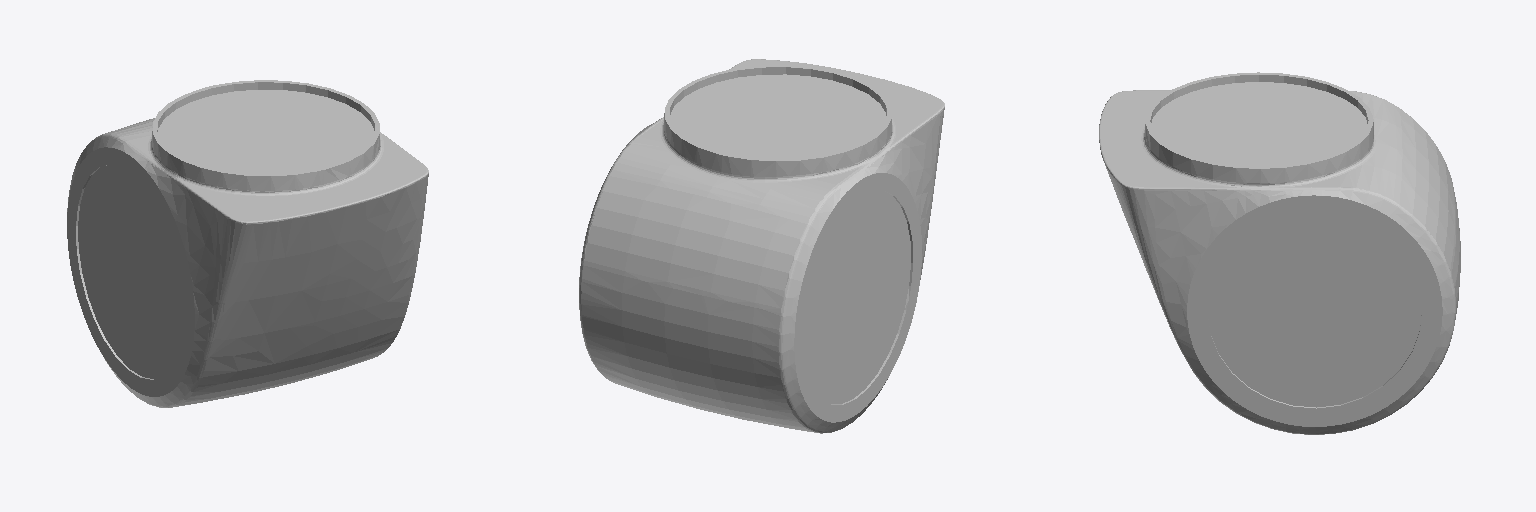
The model's file is right_shoulder_pitch_link_visuals.obj.
3 views of the same model, side by side, from view 1: azimuth 30°, elevation 25°; view 2: azimuth 150°, elevation 25°; view 3: azimuth 270°, elevation 25° (orthographic).
Bounding box in the file's own units: 0.062 × 0.0745 × 0.0904.